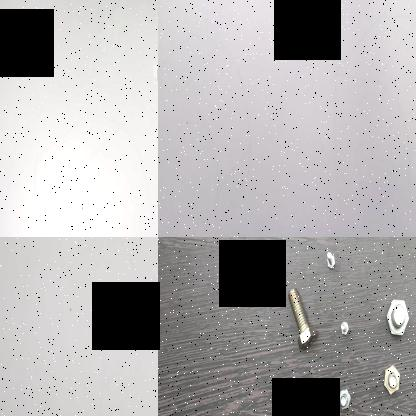Bolts: (284, 283, 320, 355), (386, 291, 412, 339), (379, 361, 405, 395), (335, 386, 355, 412), (319, 250, 337, 278), (287, 394, 304, 416), (338, 316, 350, 340)
